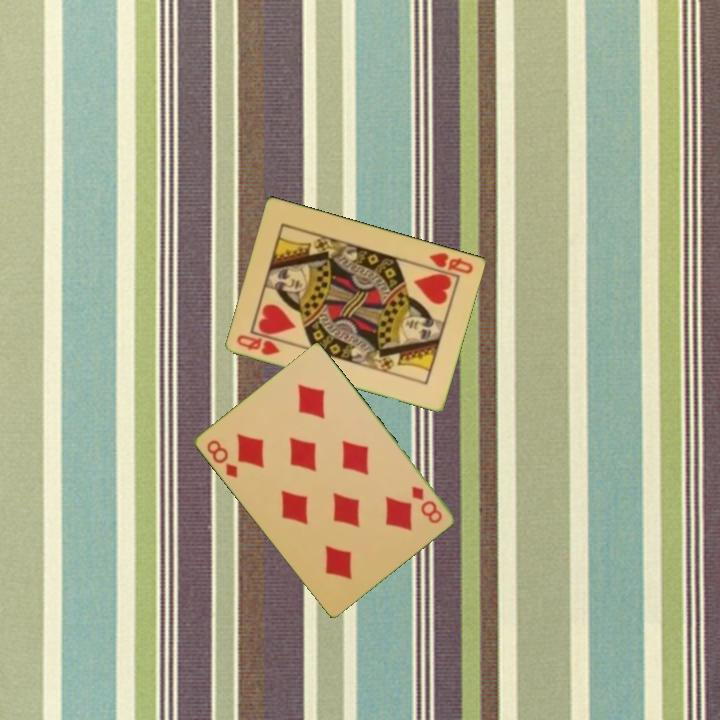8d: (407, 482, 445, 526), (203, 436, 240, 481)
Qh: (426, 249, 476, 277), (234, 331, 283, 358)
